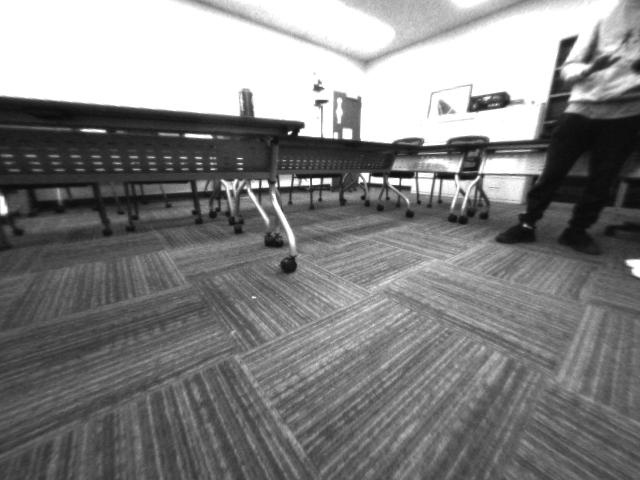can: (235, 85, 258, 116)
